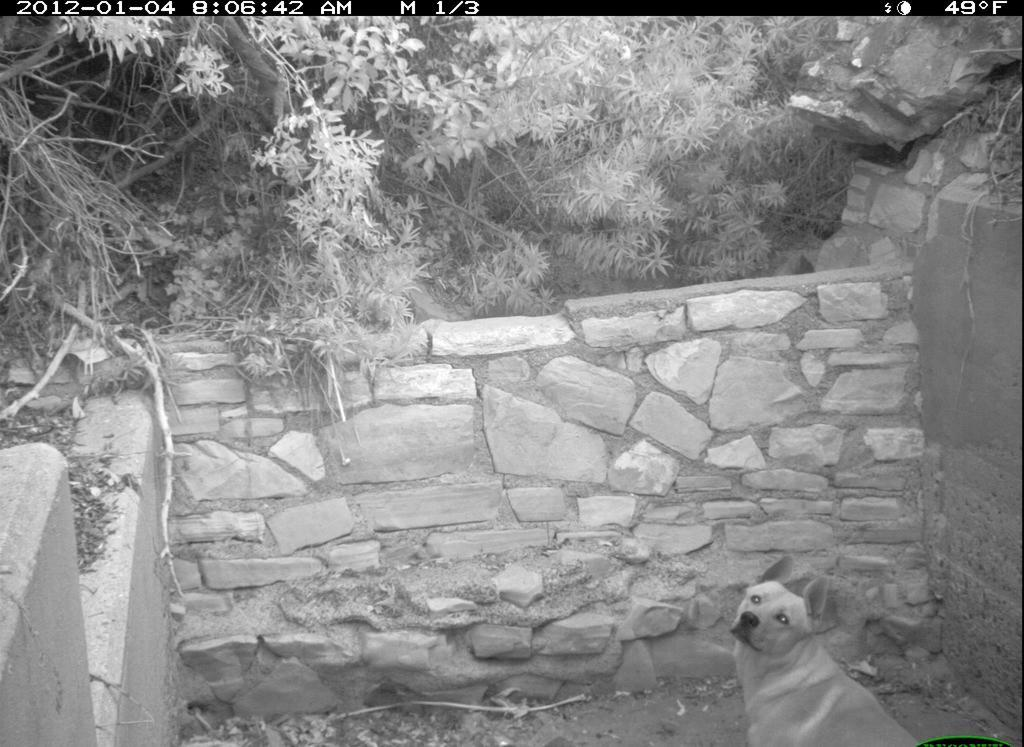dog: (719, 557, 917, 744)
